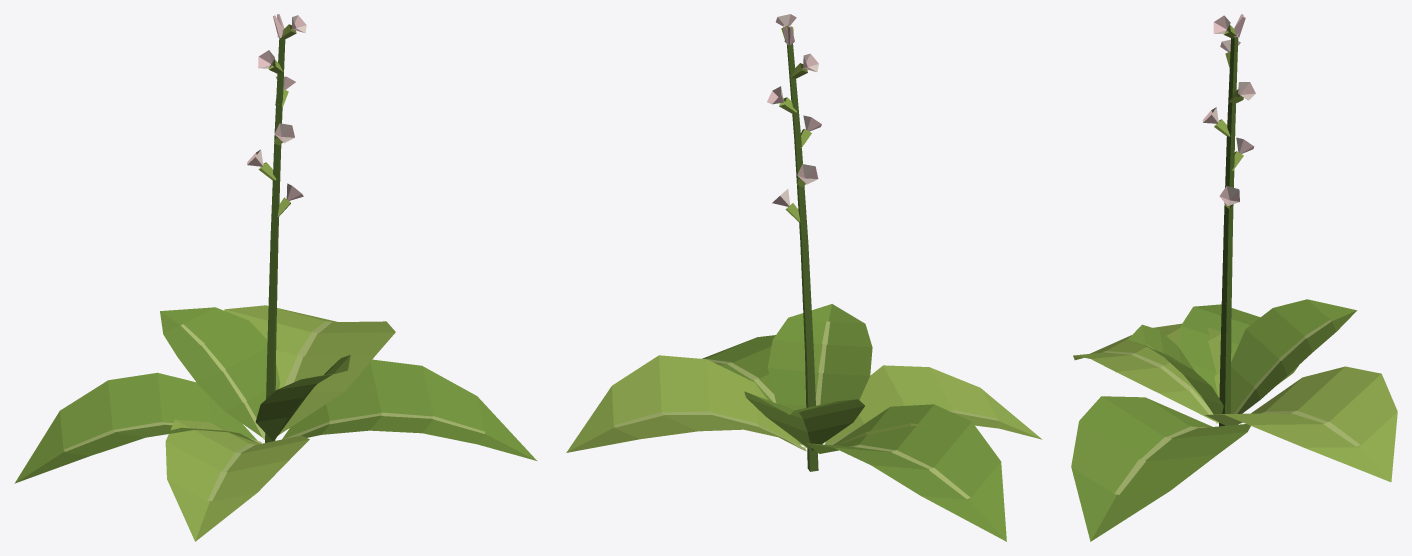
The model's file is hobbits_leaf1.fbx.
The picture shows the model from 3 angles, left to right: view 1: azimuth 30°, elevation 25°; view 2: azimuth 150°, elevation 25°; view 3: azimuth 270°, elevation 25°; orthographic projection. The views are drawn at different scales.
Parts seen in each view (by area): view 1: hobbits_leaf1; view 2: hobbits_leaf1; view 3: hobbits_leaf1.
Part boxes in pixels (bbox=[...]): hobbits_leaf1: bbox=[14, 14, 536, 541]; hobbits_leaf1: bbox=[566, 14, 1042, 541]; hobbits_leaf1: bbox=[1071, 14, 1397, 541].
Size of the model in its own units: 46.35 by 45.99 by 30.96.
